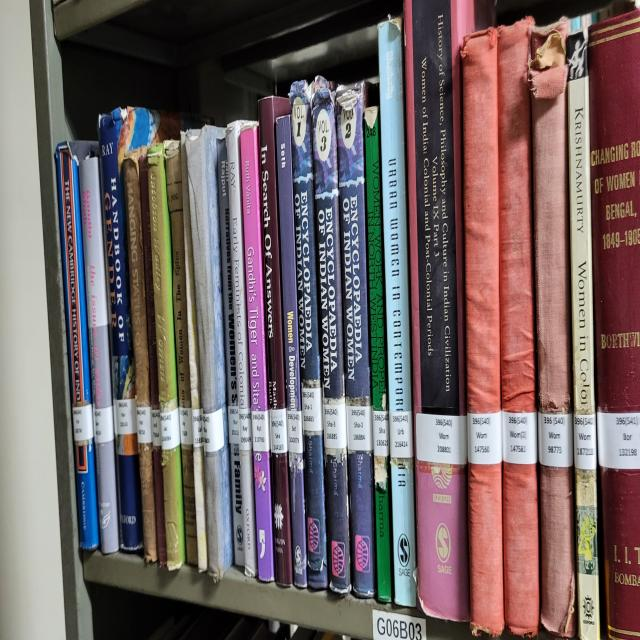Book: (404, 0, 476, 620), (99, 108, 181, 552), (589, 8, 640, 639), (528, 19, 575, 636), (185, 127, 234, 579), (379, 22, 416, 606), (335, 84, 376, 598), (566, 30, 600, 639), (311, 78, 351, 595), (290, 81, 328, 590), (56, 143, 99, 549), (259, 95, 292, 587), (460, 27, 501, 414), (148, 143, 185, 571), (275, 116, 308, 587), (240, 127, 274, 582), (498, 19, 536, 411), (226, 122, 258, 576), (164, 141, 198, 565), (124, 152, 158, 563), (364, 106, 392, 603), (218, 138, 244, 565), (80, 157, 114, 444), (139, 152, 159, 409), (106, 492, 118, 549)
Label: (416, 414, 468, 465), (596, 411, 640, 471), (538, 411, 574, 468), (501, 411, 538, 465), (468, 411, 502, 465), (346, 403, 372, 452), (574, 414, 596, 471), (322, 398, 346, 449), (389, 411, 412, 457), (202, 409, 225, 452), (301, 387, 322, 433), (72, 403, 94, 441), (114, 398, 136, 436), (270, 409, 288, 455), (372, 409, 389, 457), (160, 409, 180, 449), (251, 411, 270, 452), (94, 406, 114, 444), (286, 409, 302, 455), (136, 406, 152, 444), (179, 406, 192, 446), (239, 409, 252, 449), (191, 409, 204, 446), (228, 406, 239, 444), (151, 409, 161, 446)
